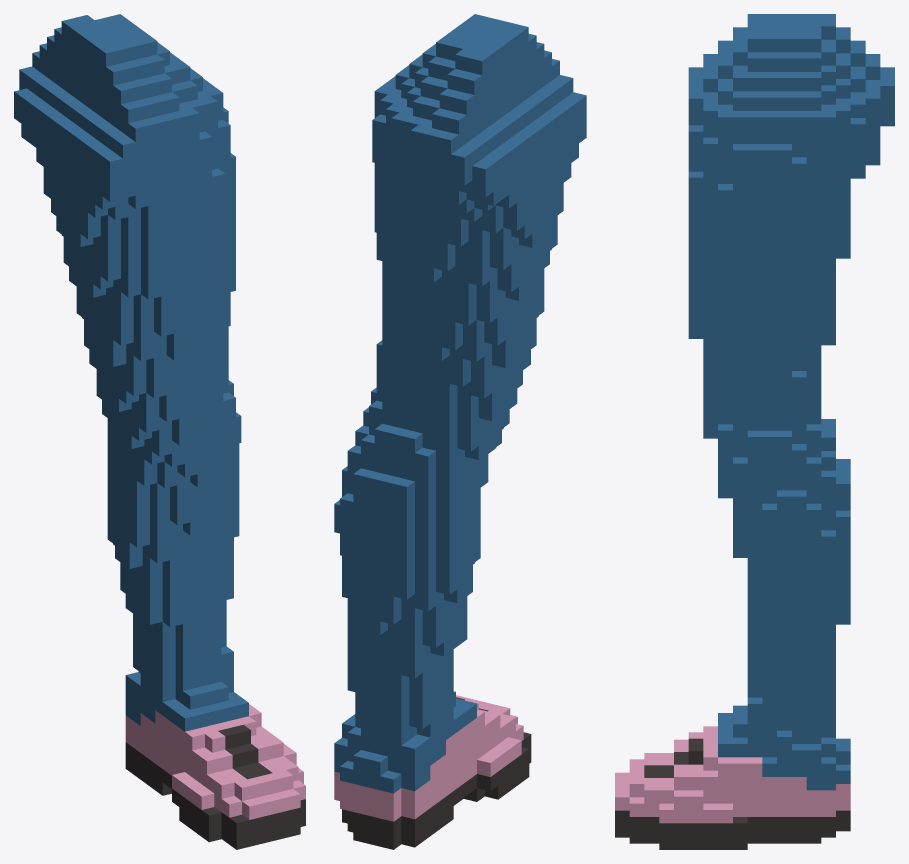
Rendered from npc-ped-01-1-Leg-Left.obj.
The picture shows the model from 3 angles, left to right: view 1: azimuth 30°, elevation 25°; view 2: azimuth 150°, elevation 25°; view 3: azimuth 270°, elevation 25°; orthographic projection. The views are drawn at different scales.
Visible parts, largest first — view 1: Leg-Left; view 2: Leg-Left; view 3: Leg-Left.
Boxes of the visible parts, <box> form: Leg-Left: <box>14,14,305,849</box>; Leg-Left: <box>334,14,586,849</box>; Leg-Left: <box>615,14,894,849</box>.
Bounding box in the file's own units: 1.4 × 5.7 × 1.9.
Materials: 1 (1 with a texture image).
